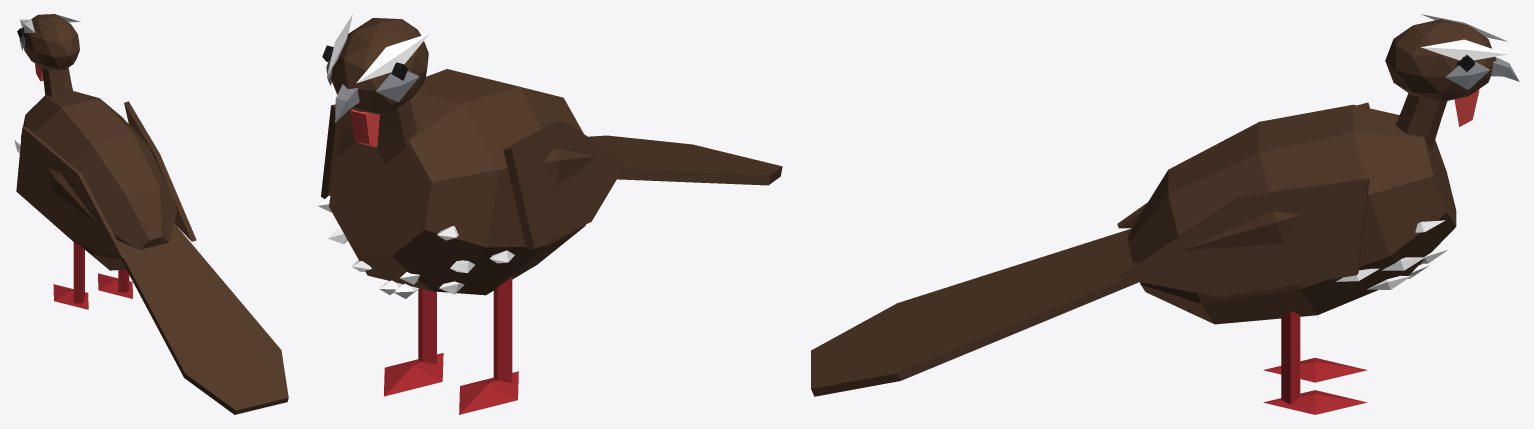
The model's file is jacucaca.glb.
3 renders of one model, left to right at view 1: azimuth 30°, elevation 25°; view 2: azimuth 150°, elevation 25°; view 3: azimuth 270°, elevation 25°, orthographic. The views are drawn at different scales.
Parts seen in each view (by area): view 1: corpo; view 2: corpo; view 3: corpo.
Part boxes in pixels (box(x1,y1,x2,y2)): corpo: box(14, 14, 288, 414); corpo: box(317, 14, 782, 414); corpo: box(811, 14, 1519, 414).
Size of the model in its own units: 0.3063 by 0.5794 by 1.
